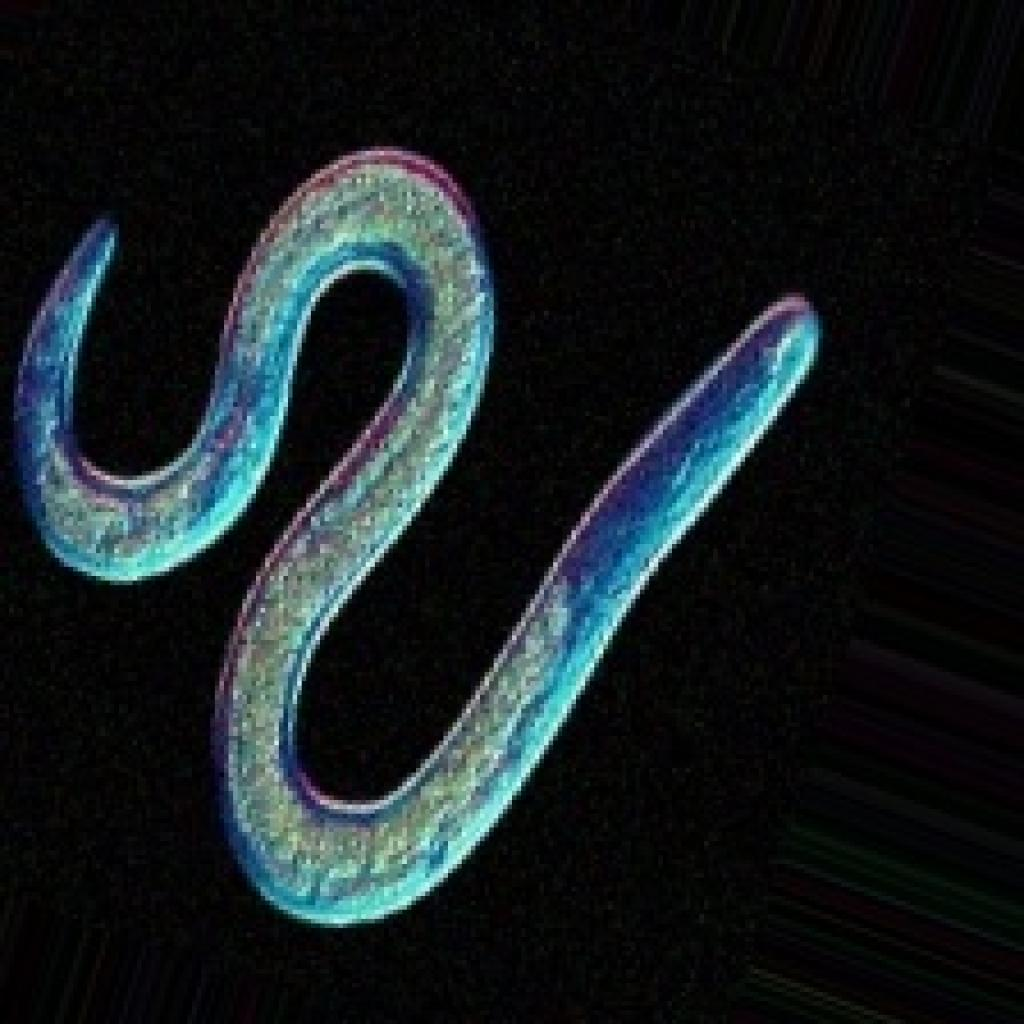Nematode: (4, 137, 828, 933)
